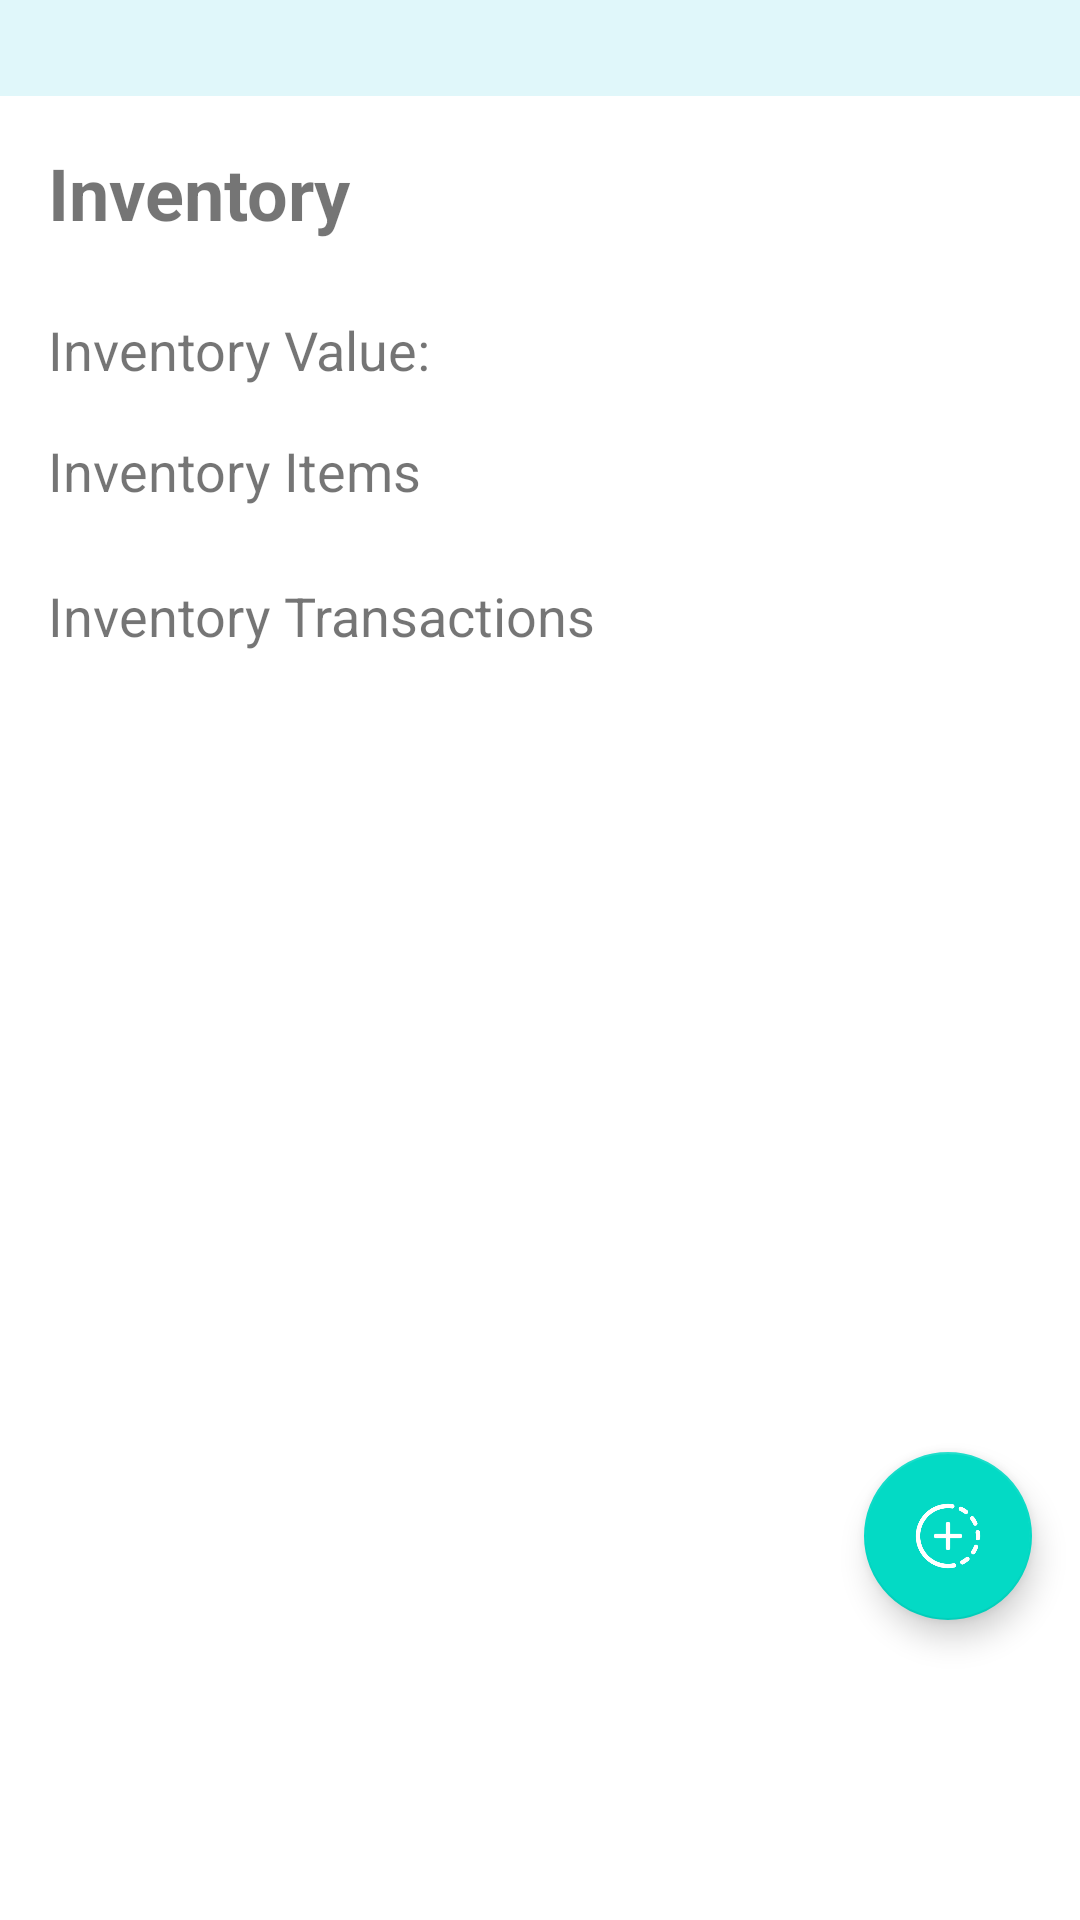

Icons on this 1080px x 1920px Android screen, each with the point to tap as point (x, y):
add: point (948, 1536)
